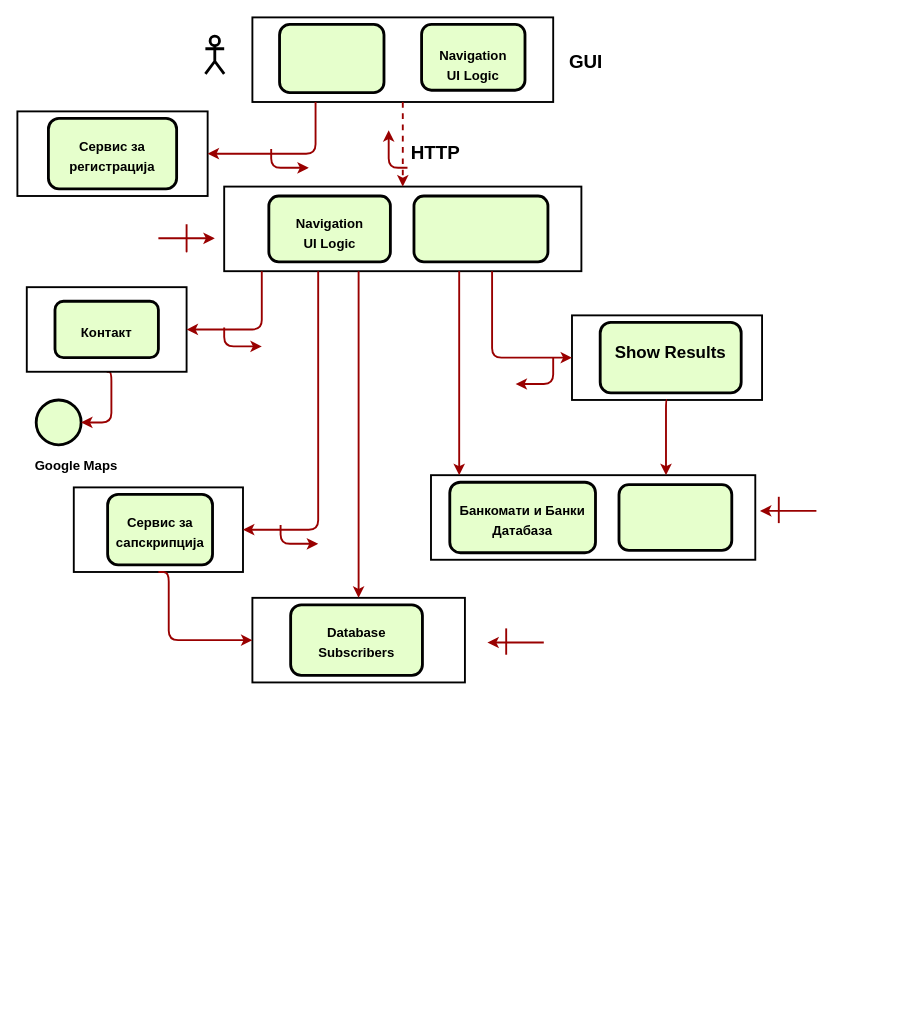
Some shapes in this 919 by 1013 pixel diagram are drawn without their labels. The shapes that lost their labels are listed below. From the top down, each one's box as (x1, y1, x2, y2) in pixels, then its label:
(204, 34, 225, 75): User
(278, 23, 385, 94): AppUI
(412, 194, 549, 263): Филтер
(617, 483, 733, 551): Locations Градови
